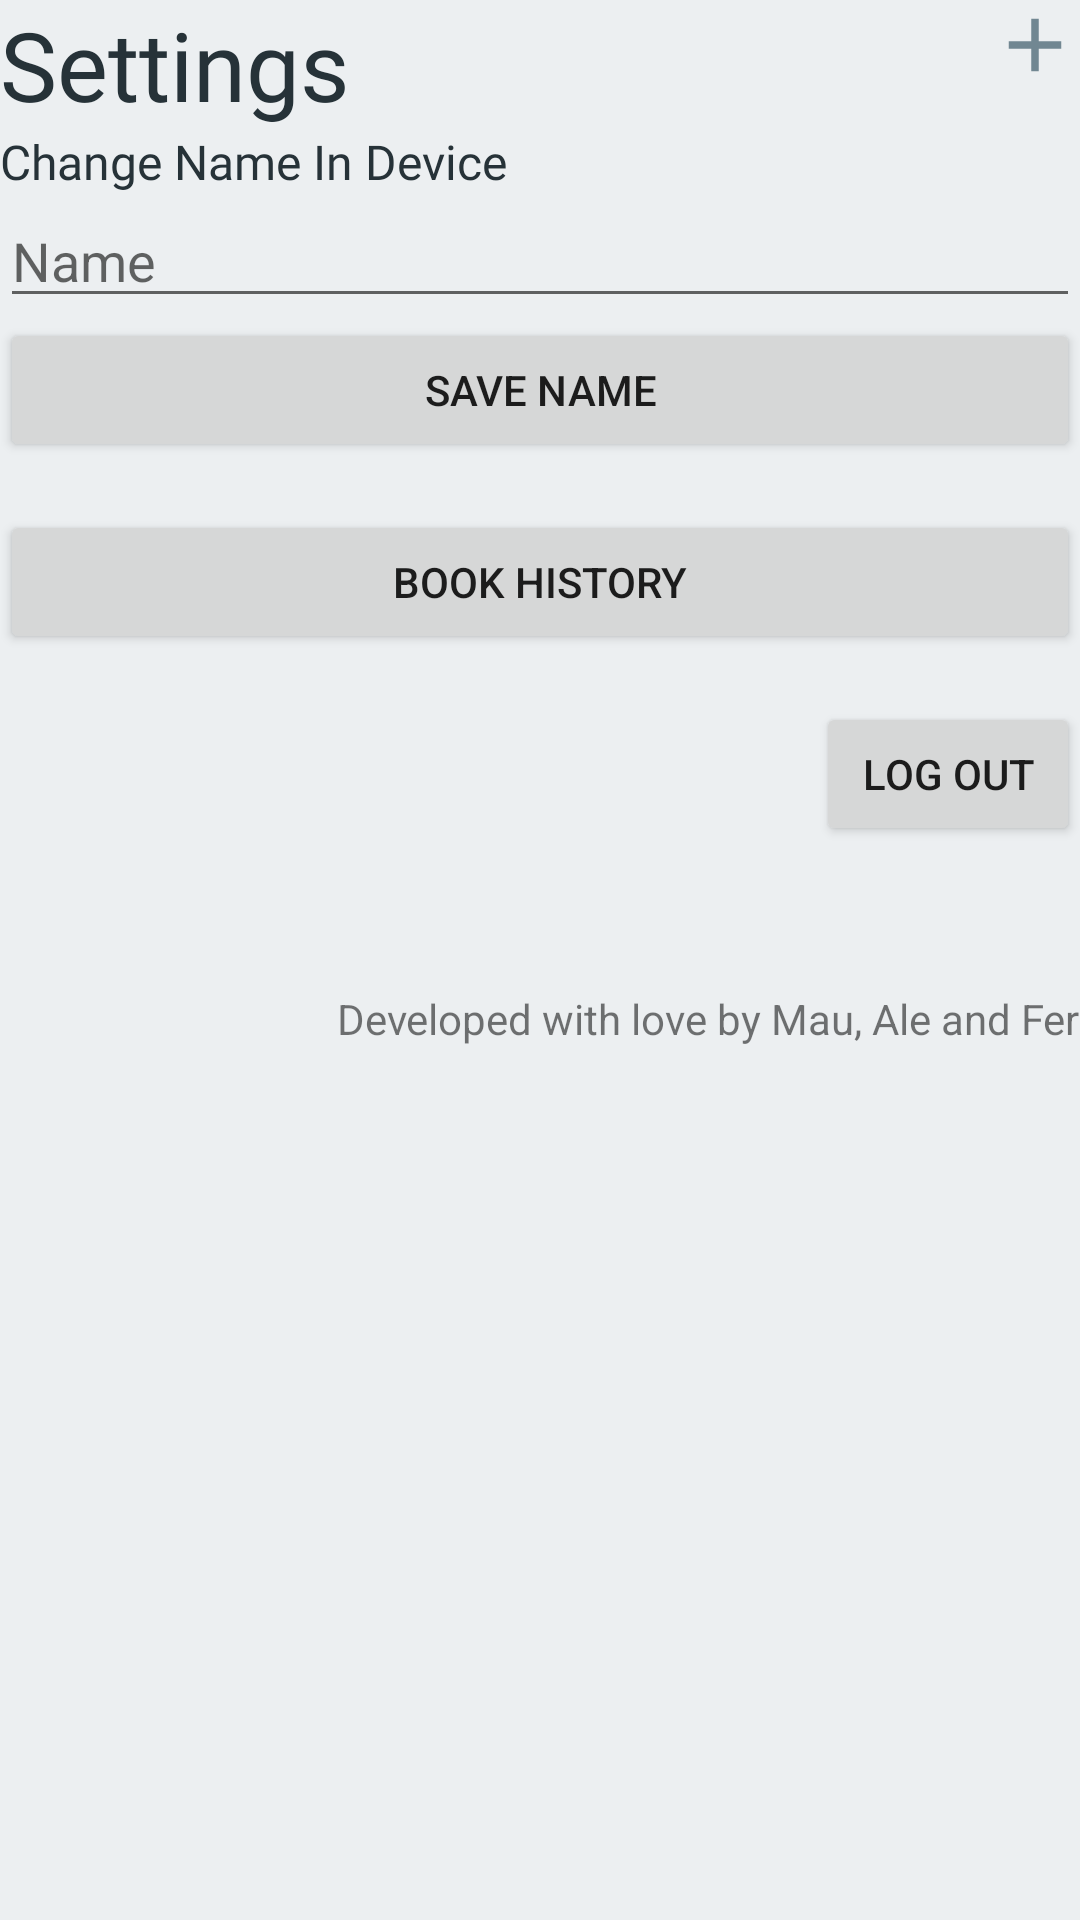

Icon click points for this 1080×1920 phone screenshot, format (x=x, y=y):
Add Book Button: (x=1035, y=45)
